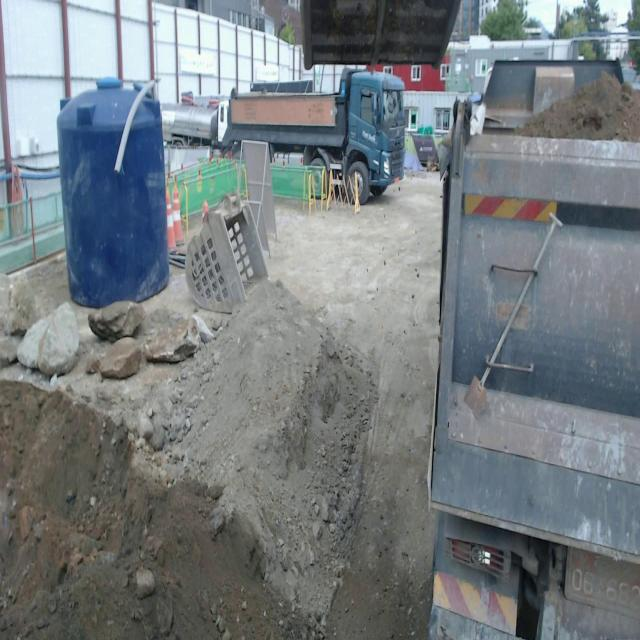stone: (0, 252, 70, 334), (38, 303, 79, 375), (144, 316, 200, 363), (88, 301, 145, 341), (99, 337, 142, 379), (17, 318, 49, 369)
white-sand: (0, 181, 441, 639)
